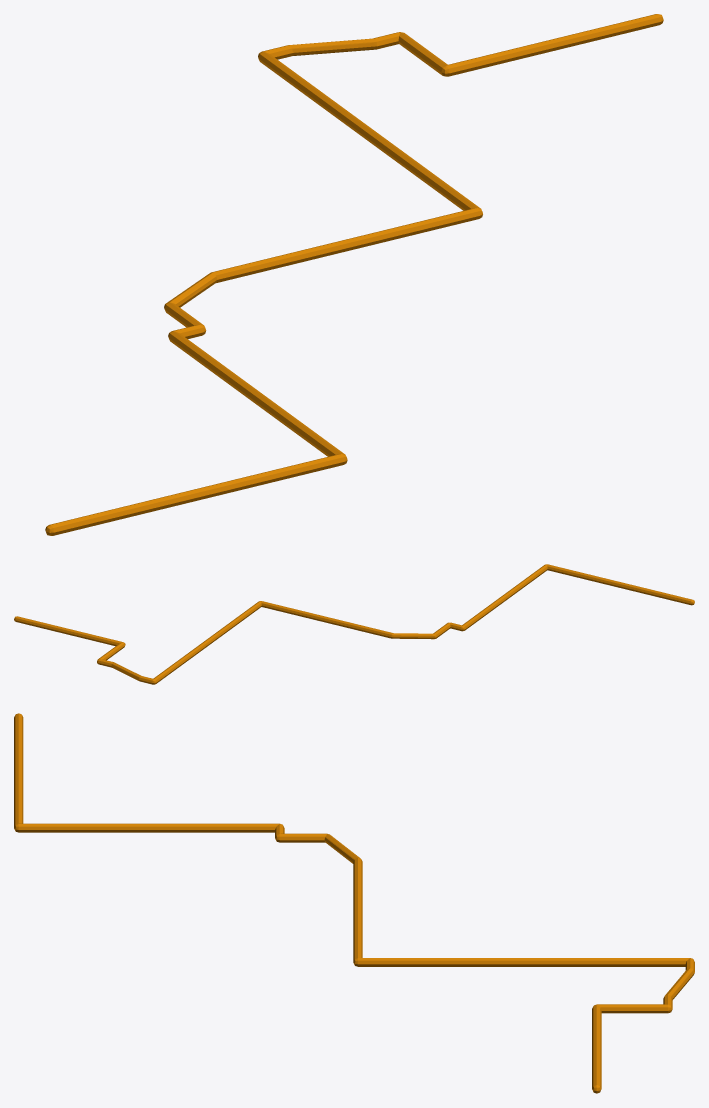
3 views of the same model, one above another, from view 1: azimuth 30°, elevation 25°; view 2: azimuth 150°, elevation 25°; view 3: azimuth 270°, elevation 25° (orthographic). The views are drawn at different scales.
Bounding box in the file's own units: 1871 × 20 × 1435.
